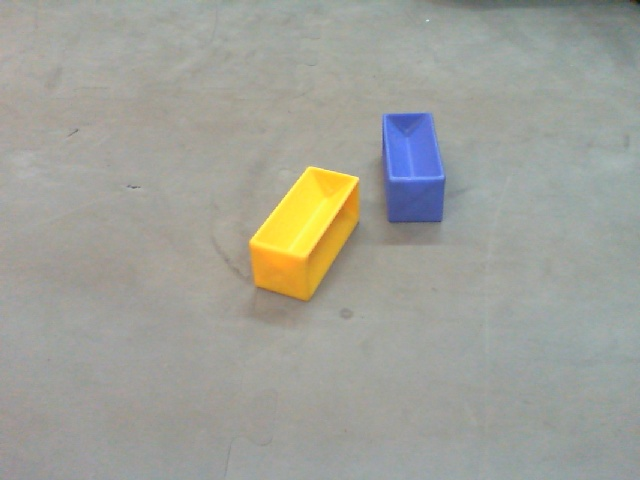BlueSample: (380, 110, 445, 224)
YellowSample: (245, 165, 366, 304)
